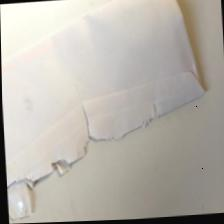paper: (0, 0, 213, 224)
